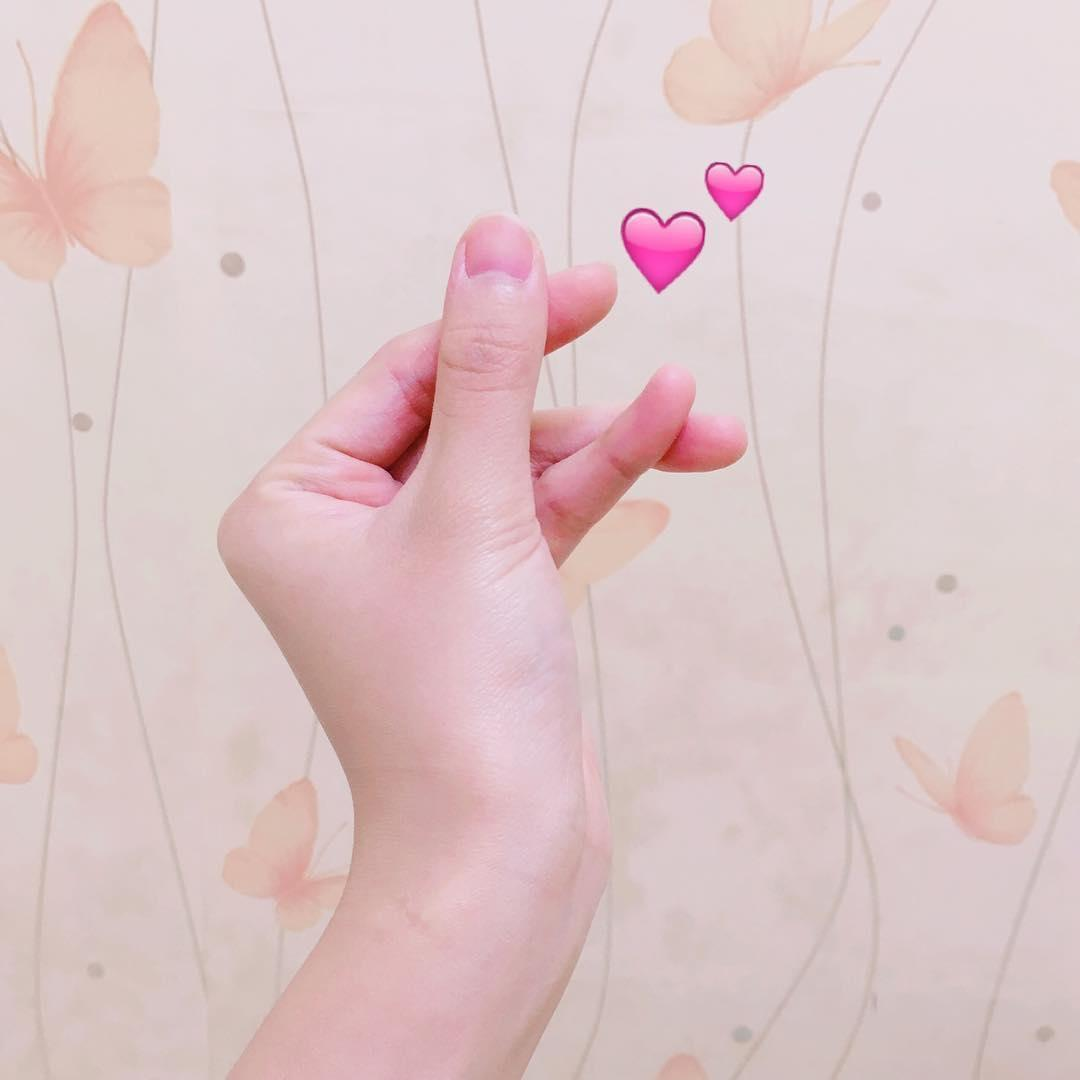heart gesture: (438, 214, 621, 404), (628, 360, 754, 480)
